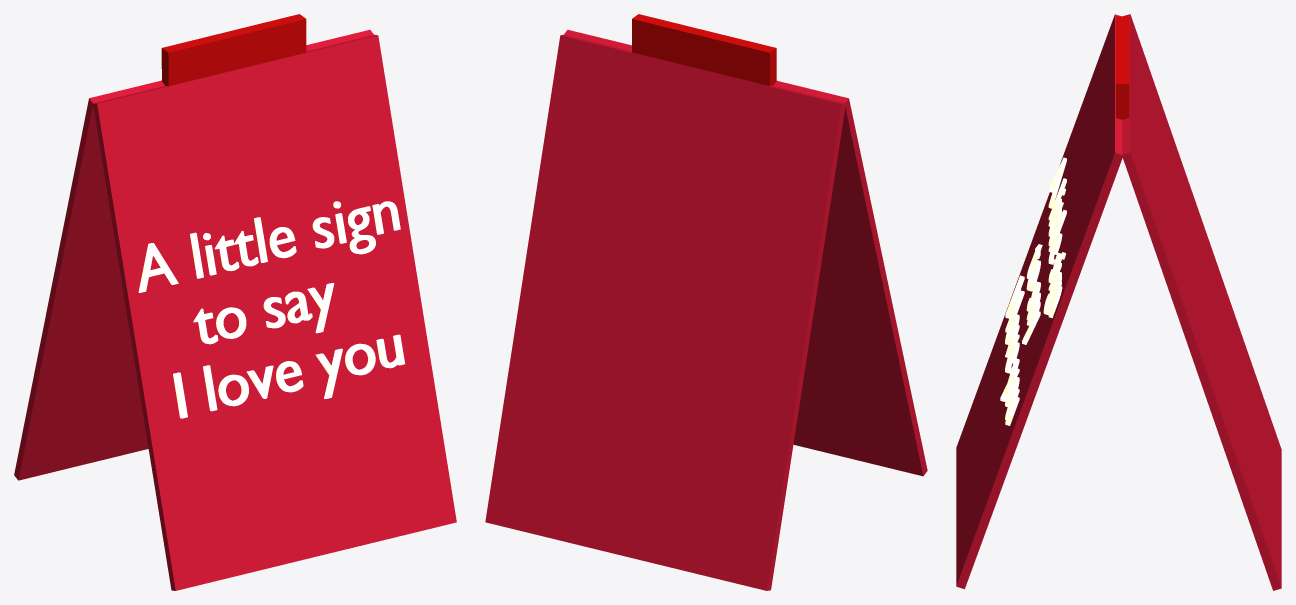
File: love-sign.glb
The picture shows the model from 3 angles, left to right: view 1: azimuth 30°, elevation 25°; view 2: azimuth 150°, elevation 25°; view 3: azimuth 270°, elevation 25°; orthographic projection.
Parts seen in each view (by area): view 1: Cube.002, Cube.001, Text.001, Cube; view 2: Cube.001, Cube.002, Cube; view 3: Cube.001, Cube.002, Text.001, Cube.
Boxes of the visible parts, x1,y1,x2,y2 form: Cube.002: (93,34,456,590); Cube.001: (14,29,373,480); Text.001: (138,201,404,418); Cube: (161,14,306,86); Cube.001: (485,34,845,590); Cube.002: (564,29,927,476); Cube: (632,14,776,85); Cube.001: (1122,14,1281,590); Cube.002: (956,14,1123,589); Text.001: (1000,157,1066,425); Cube: (1116,16,1129,119).
Bounding box in the file's own units: 4.09 × 6.48 × 4.05.
